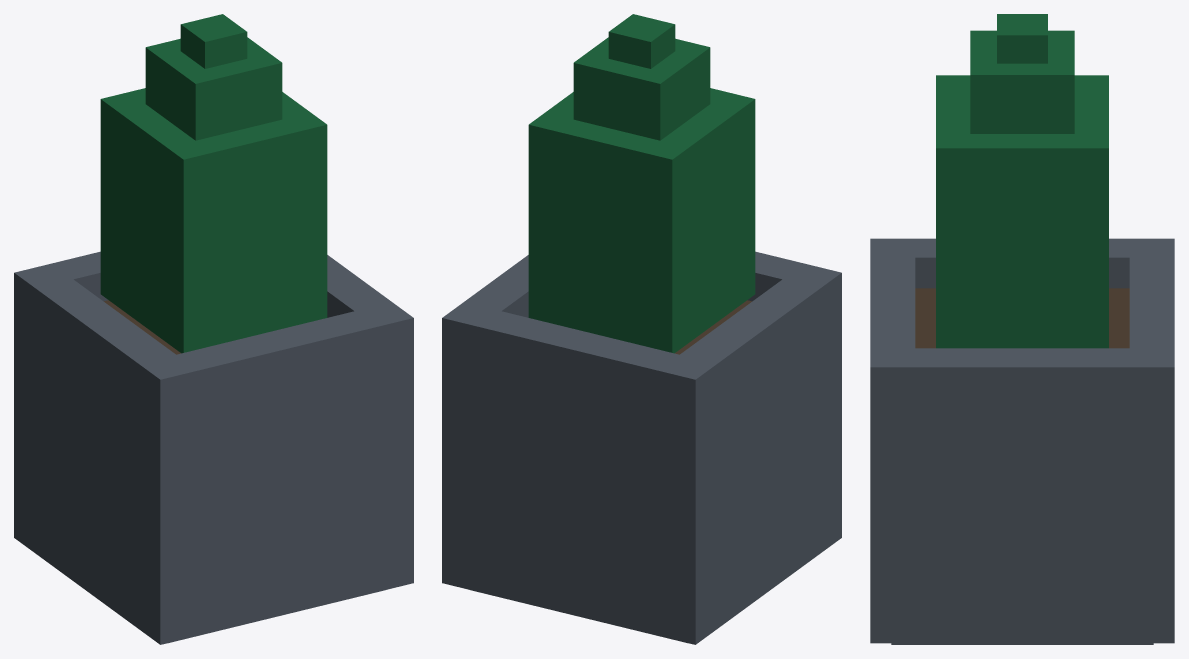
File: donica.fbx
3 renders of one model, left to right at view 1: azimuth 30°, elevation 25°; view 2: azimuth 150°, elevation 25°; view 3: azimuth 270°, elevation 25°, orthographic. The views are drawn at different scales.
Visible parts, largest first — view 1: Cube; view 2: Cube; view 3: Cube.
Part boxes in pixels (x1=…): Cube: x1=14, y1=14, x2=413, y2=644; Cube: x1=442, y1=14, x2=841, y2=644; Cube: x1=870, y1=14, x2=1174, y2=644.
Bounding box in the file's own units: 98.67 × 202 × 98.67.
